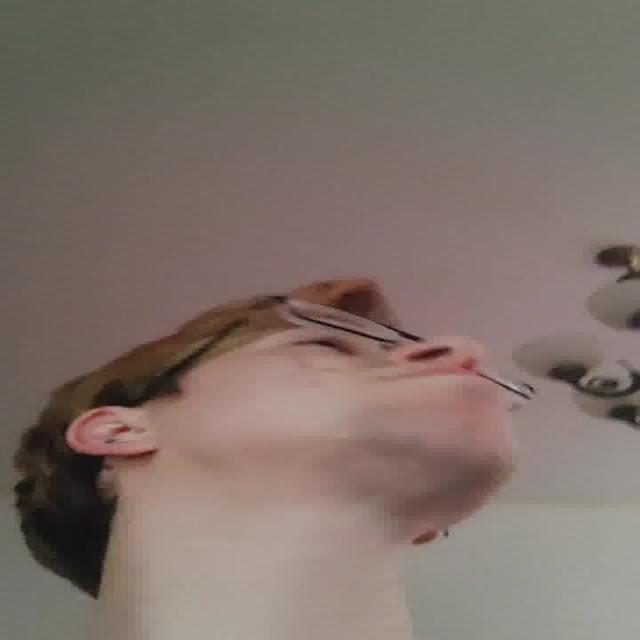earlobe: (66, 408, 161, 458)
